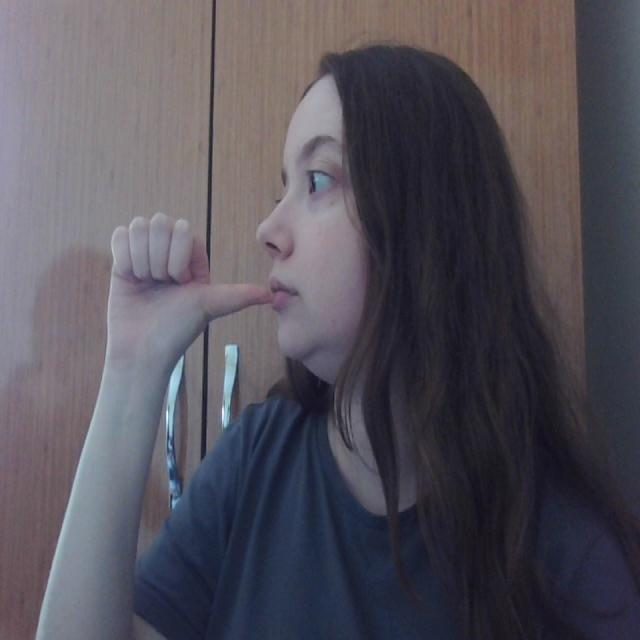icmek: (36, 205, 300, 362)
